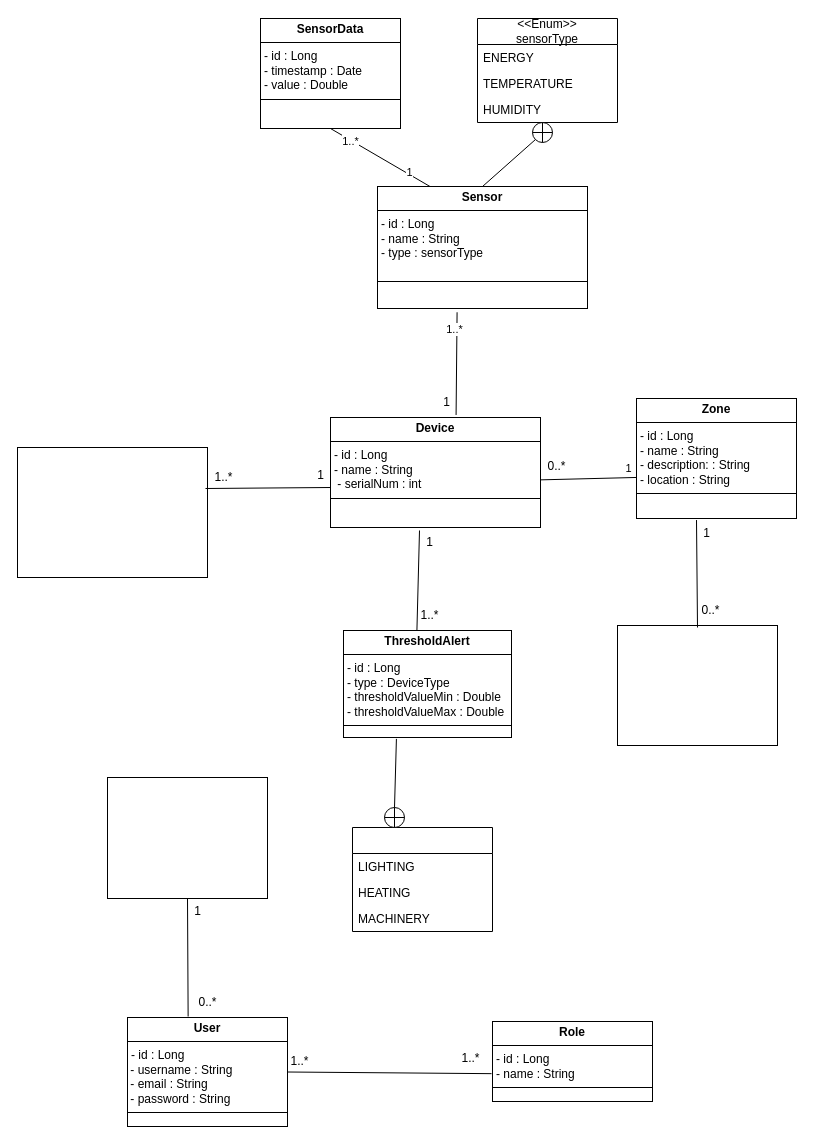
The diagram is 814 pixels wide and 1144 high, and some of its shapes have lost their labels. Each missing label, with the box of its shape:
<<Enum>> DeviceType: (352, 826, 492, 932)
EnergyConsumption - id : Long - timestamp : LocalDateTime - consumption: Double: (16, 446, 208, 578)
Notification - id : Long - message : String - timestamp: Date - read: Boolean: (106, 776, 268, 898)
Report - id : Long - title: String - content : String - date : LocalDate: (616, 624, 778, 746)
